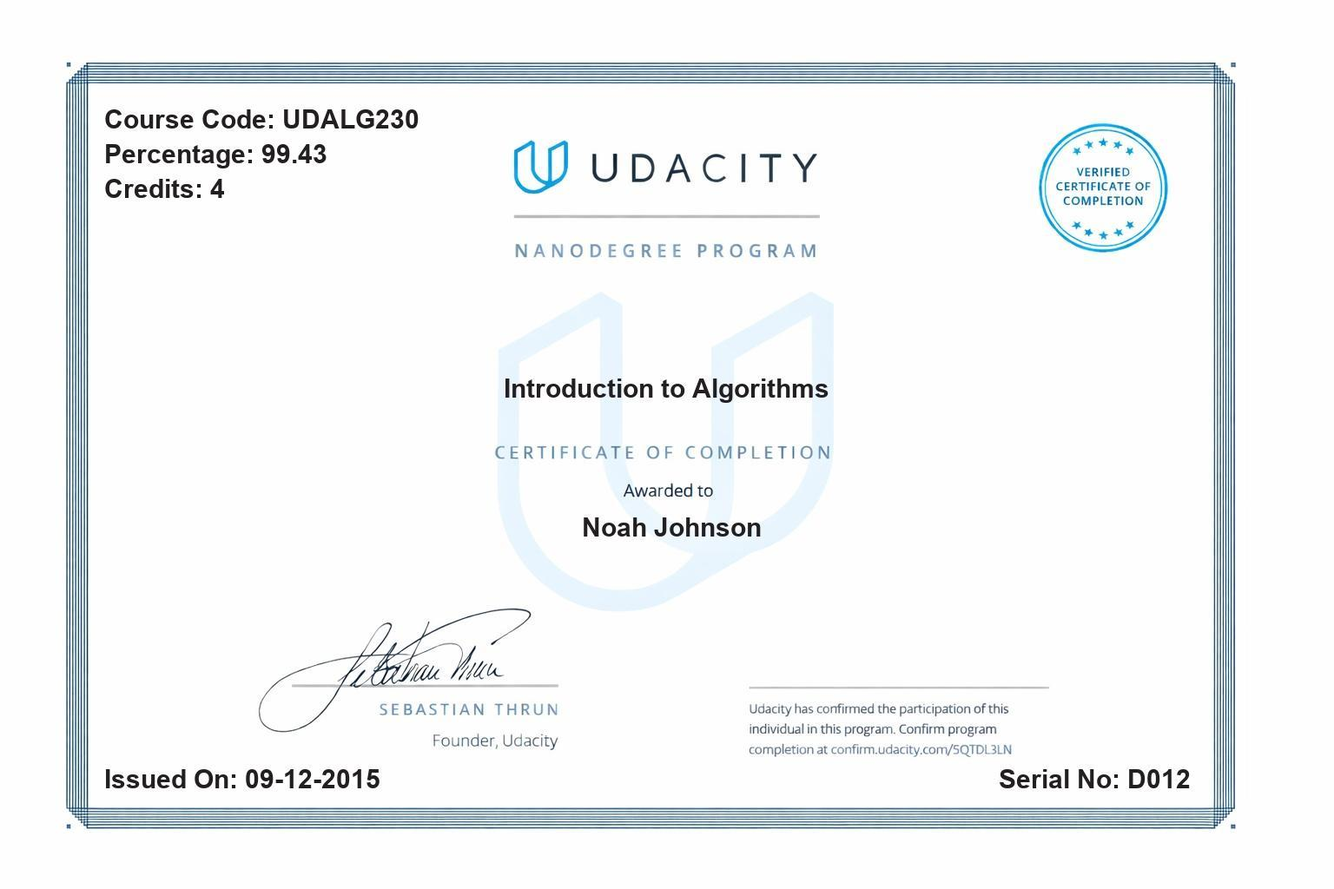Course Code: (279, 97, 434, 137)
Course Name: (494, 361, 835, 416)
Credits: (204, 173, 240, 217)
Issued On: (237, 757, 384, 805)
Percentage: (256, 135, 341, 174)
Serial No: (1120, 759, 1203, 808)
Student Name: (569, 510, 767, 553)
